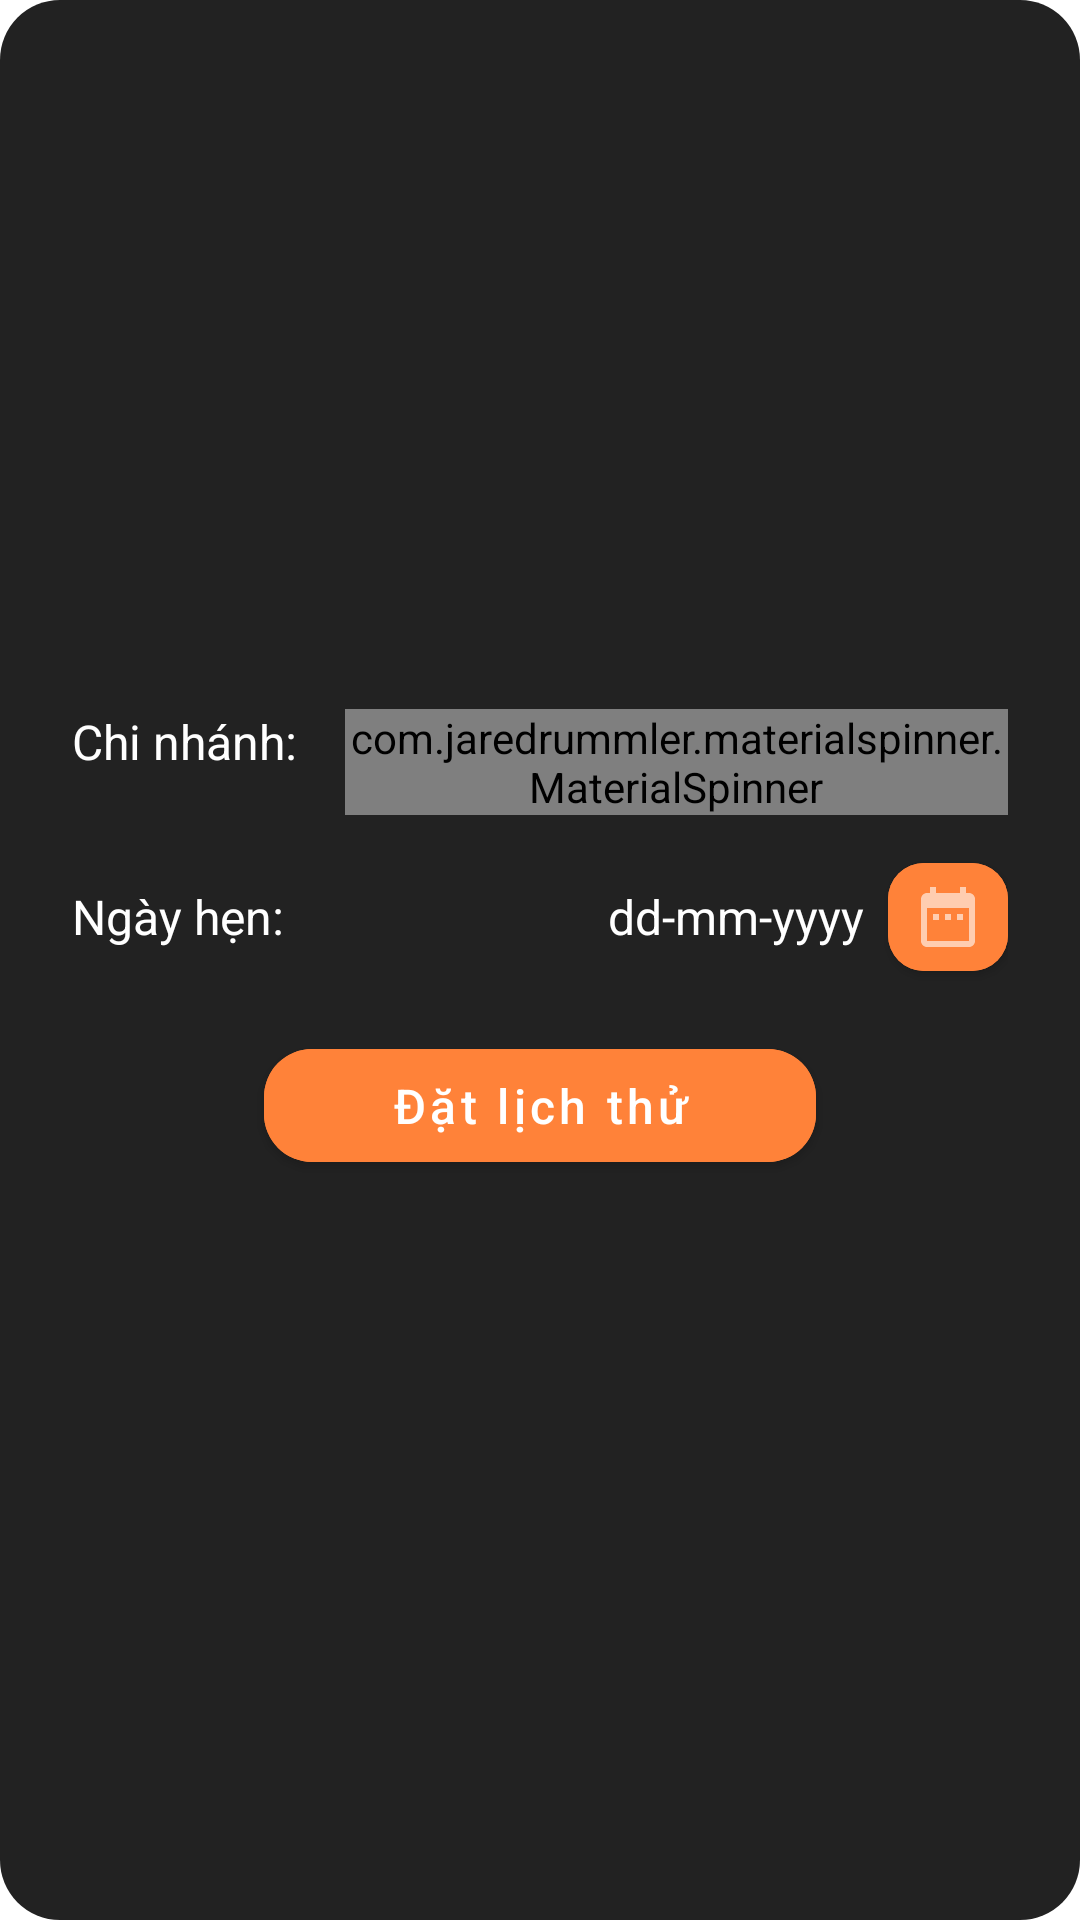

Where to tap for icons on this 1080x1920 app screen, as point (x, y):
date: point (948, 917)
